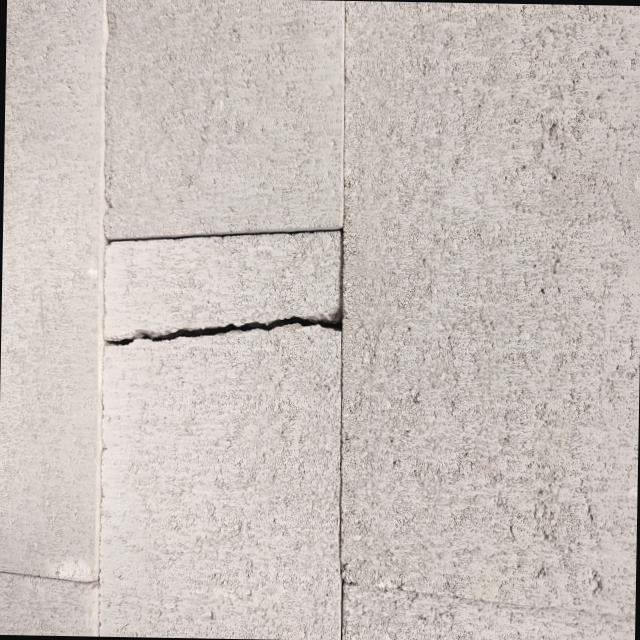crack: (102, 292, 343, 358)
